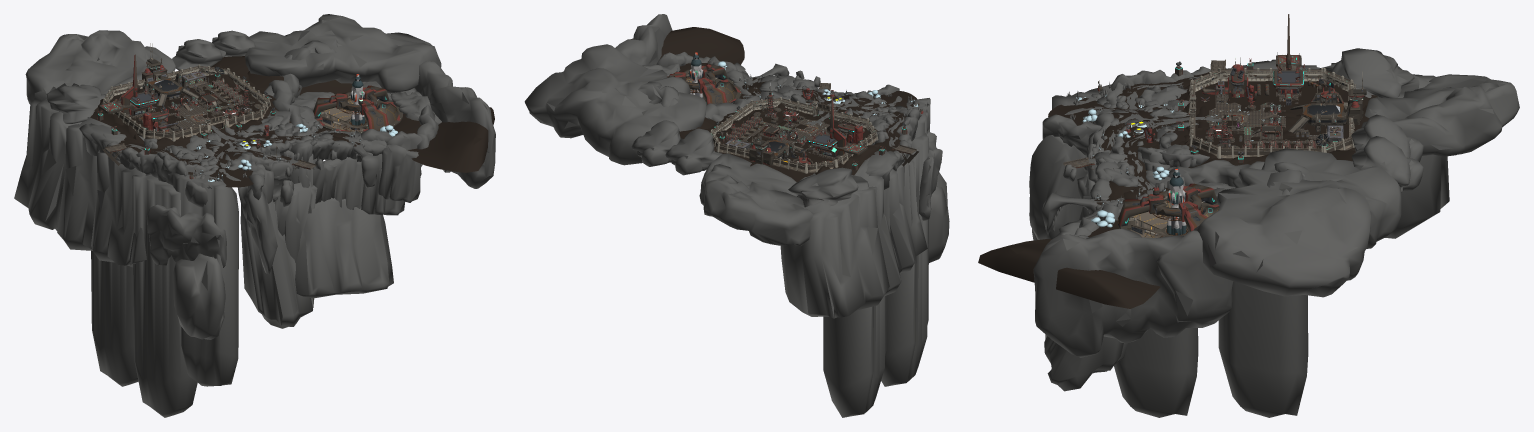
3 renders of one model, left to right at view 1: azimuth 30°, elevation 25°; view 2: azimuth 150°, elevation 25°; view 3: azimuth 270°, elevation 25°, orthographic. The views are drawn at different scales.
Parts seen in each view (by area): view 1: chunk_q10_low; view 2: chunk_q10_low; view 3: chunk_q10_low.
Part boxes in pixels (x1,y1,x2,y2): chunk_q10_low: [14, 14, 495, 417]; chunk_q10_low: [524, 14, 949, 417]; chunk_q10_low: [978, 14, 1519, 417].
Size of the model in its own units: 43.74 by 35.51 by 42.31.
Materials: 12 (11 with a texture image).
